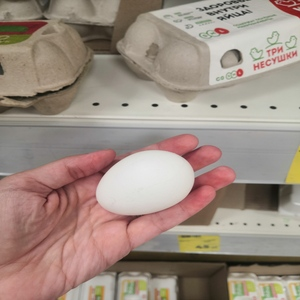white egg: (95, 149, 196, 217)
